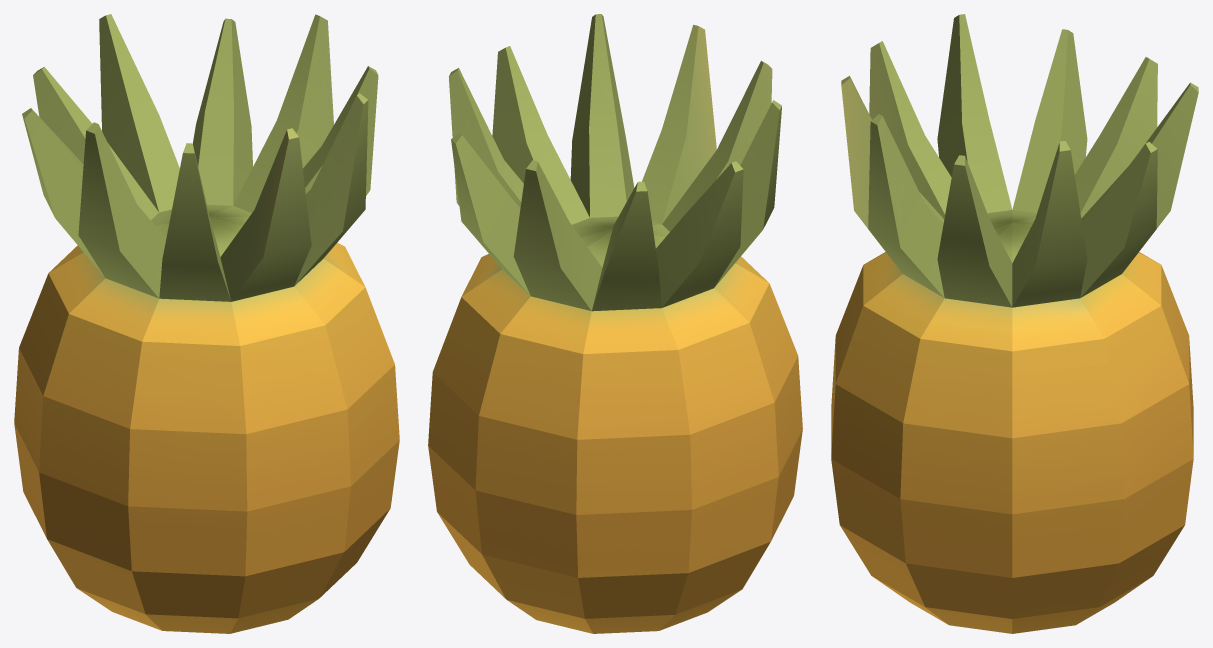
Rendered from pineapple@rotted2.fbx.
The picture shows the model from 3 angles, left to right: view 1: azimuth 30°, elevation 25°; view 2: azimuth 150°, elevation 25°; view 3: azimuth 270°, elevation 25°; orthographic projection. The views are drawn at different scales.
Parts seen in each view (by area): view 1: pSphere1; view 2: pSphere1; view 3: pSphere1.
Part boxes in pixels (bbox=[...]): pSphere1: bbox=[14, 14, 399, 633]; pSphere1: bbox=[428, 14, 802, 633]; pSphere1: bbox=[831, 14, 1198, 633].
Size of the model in its own units: 15.96 by 24.55 by 15.39.
